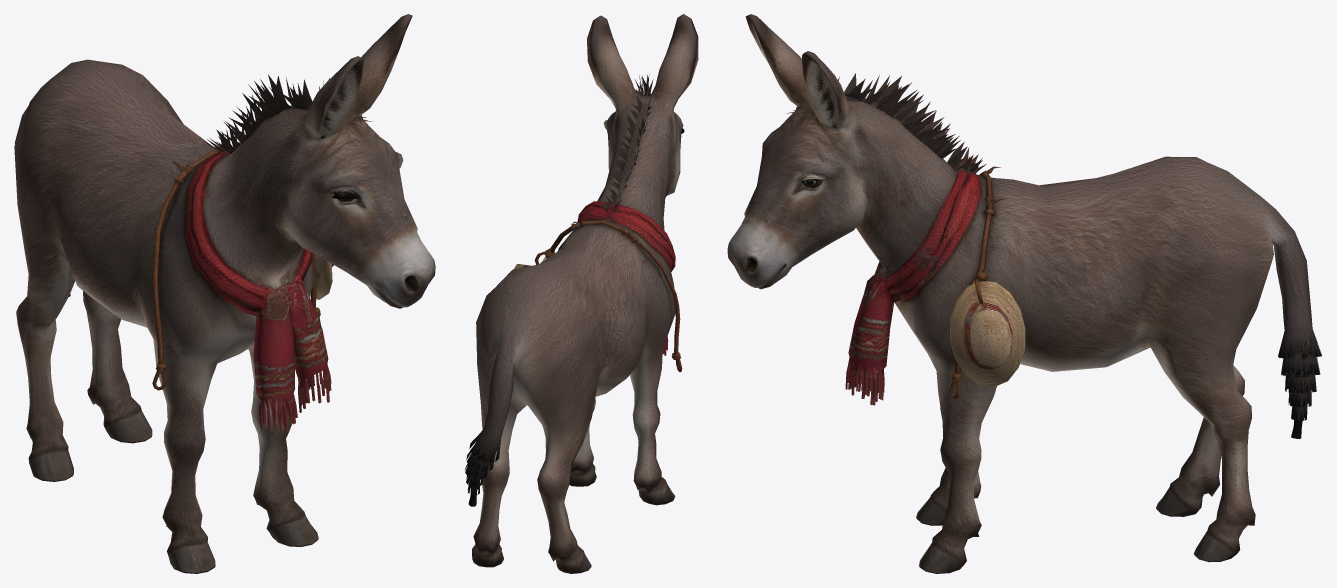
Rendered from burrito-player.glb.
3 views of the same model, side by side, from view 1: azimuth 30°, elevation 25°; view 2: azimuth 150°, elevation 25°; view 3: azimuth 270°, elevation 25° (orthographic). The views are drawn at different scales.
Parts seen in each view (by area): view 1: tripo_node_2558f2d6-84b5-4e0d-a253-5caa136cf62b; view 2: tripo_node_2558f2d6-84b5-4e0d-a253-5caa136cf62b; view 3: tripo_node_2558f2d6-84b5-4e0d-a253-5caa136cf62b.
Part boxes in pixels (left/top/right/bottom): tripo_node_2558f2d6-84b5-4e0d-a253-5caa136cf62b: left=14, top=14, right=435, bottom=573; tripo_node_2558f2d6-84b5-4e0d-a253-5caa136cf62b: left=464, top=14, right=698, bottom=573; tripo_node_2558f2d6-84b5-4e0d-a253-5caa136cf62b: left=727, top=14, right=1321, bottom=573.
Bounding box in the file's own units: 0.4009 × 0.9897 × 0.9995.
1 material, 1 textured.
